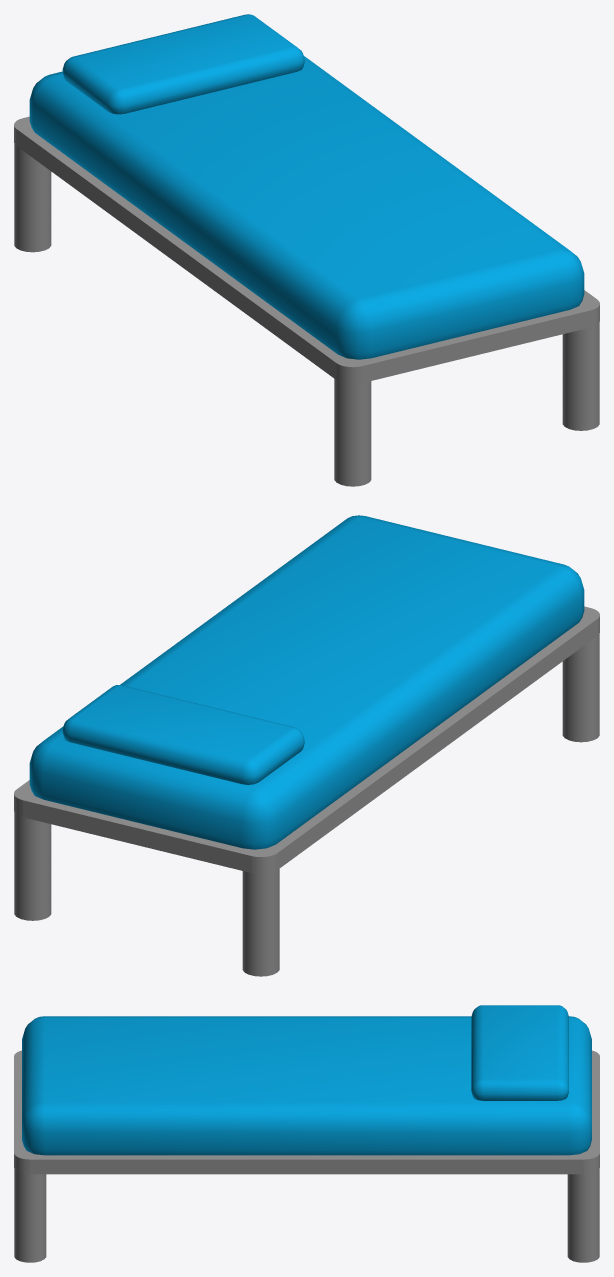
File: lettoAzzurro.obj
3 views of the same model, one above another, from view 1: azimuth 30°, elevation 25°; view 2: azimuth 150°, elevation 25°; view 3: azimuth 270°, elevation 25° (orthographic). The views are drawn at different scales.
Parts seen in each view (by area): view 1: ChamferBox27_1, Rectangle02_2, ChamferBox26_7, Cylinder01_3, Cylinder02_4, Cylinder04_6; view 2: ChamferBox27_1, Rectangle02_2, ChamferBox26_7, Cylinder04_6, Cylinder03_5, Cylinder01_3; view 3: ChamferBox27_1, Rectangle02_2, ChamferBox26_7, Cylinder02_4, Cylinder03_5.
Part boxes in pixels (x1,y1,x2,y2): ChamferBox27_1: (29, 56, 584, 359); Rectangle02_2: (14, 116, 599, 384); ChamferBox26_7: (62, 14, 304, 114); Cylinder01_3: (334, 379, 371, 486); Cylinder02_4: (562, 322, 599, 430); Cylinder04_6: (14, 144, 51, 252); ChamferBox27_1: (29, 515, 584, 849); Rectangle02_2: (14, 606, 599, 874); ChamferBox26_7: (62, 685, 304, 784); Cylinder04_6: (242, 869, 279, 976); Cylinder03_5: (14, 812, 51, 920); Cylinder01_3: (562, 634, 599, 742); ChamferBox27_1: (22, 1016, 591, 1155); Rectangle02_2: (14, 1050, 599, 1174); ChamferBox26_7: (471, 1005, 568, 1100); Cylinder02_4: (14, 1169, 46, 1262); Cylinder03_5: (567, 1169, 599, 1262).
Size of the model in its own units: 80 by 56.01 by 180.
